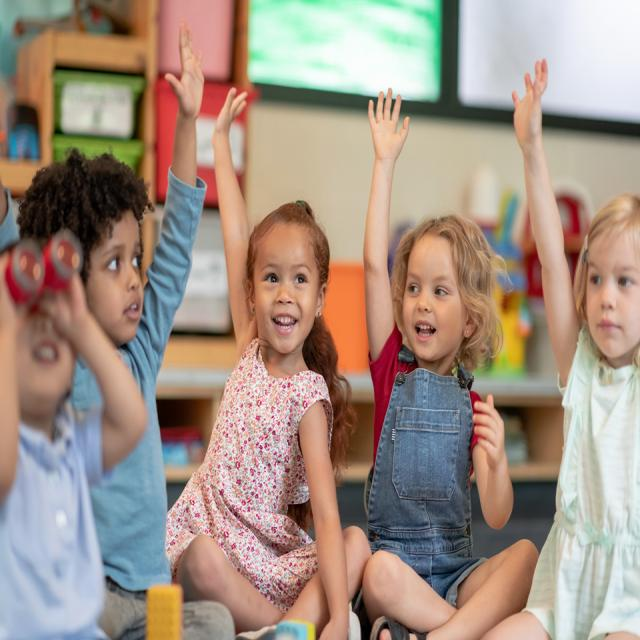child: (23, 21, 208, 640), (172, 87, 372, 640), (361, 86, 537, 640), (510, 55, 640, 640), (0, 229, 148, 640)
